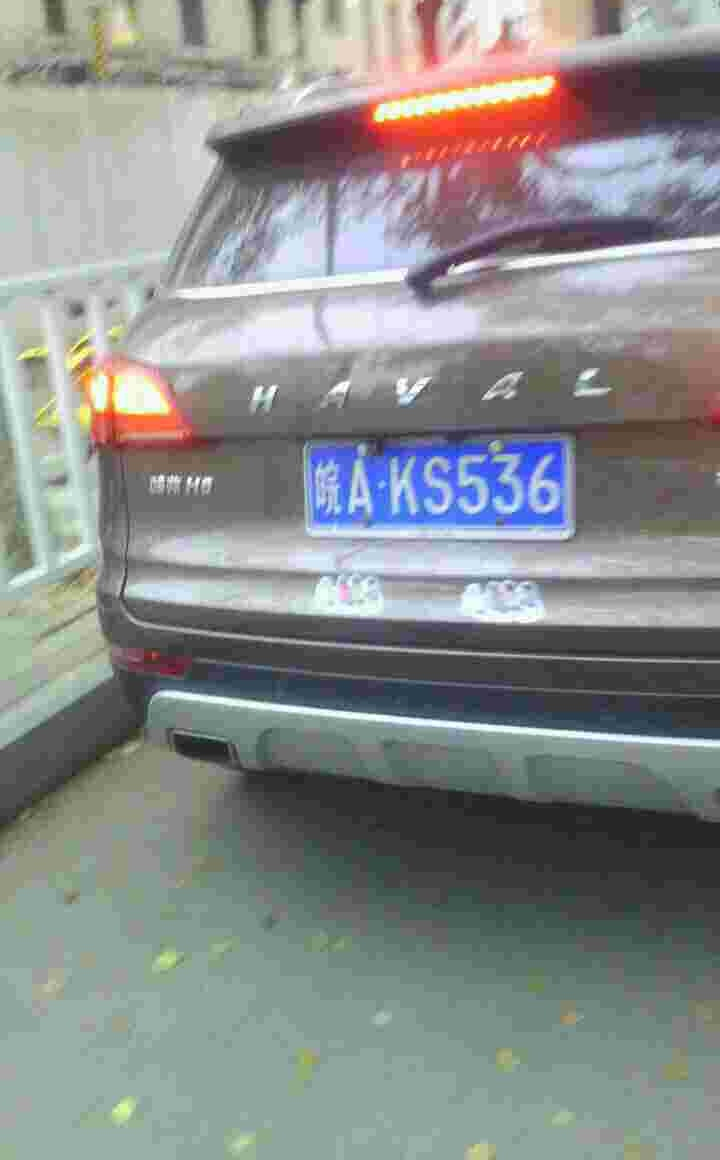license_plate: (302, 448, 572, 538)
